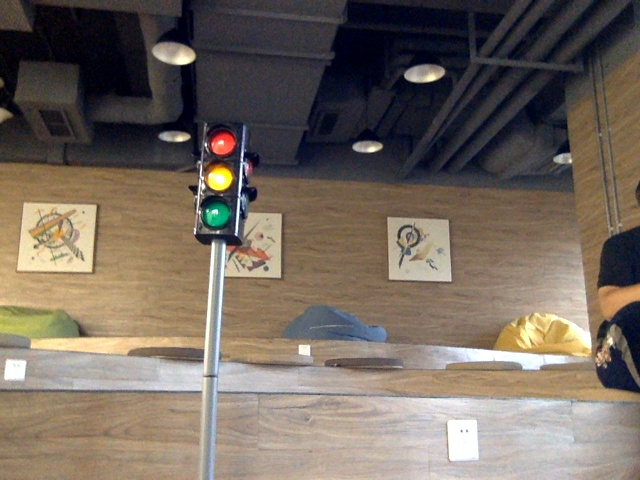yellow: (202, 121, 235, 229)
